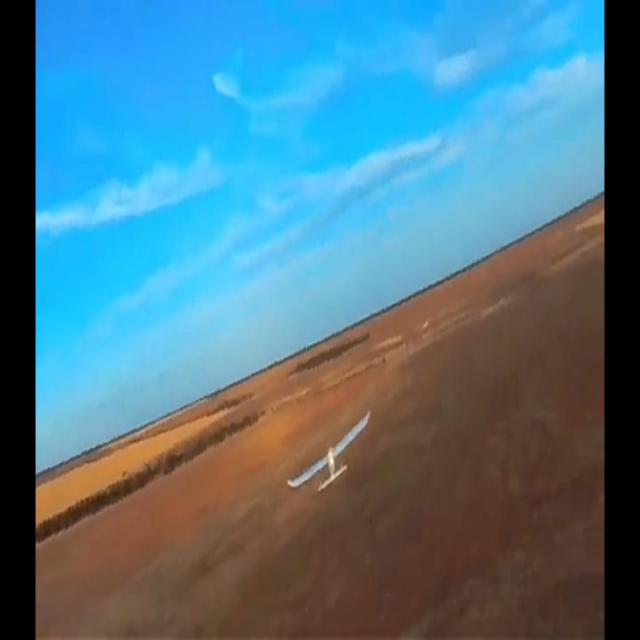iha: (312, 439, 333, 464)
